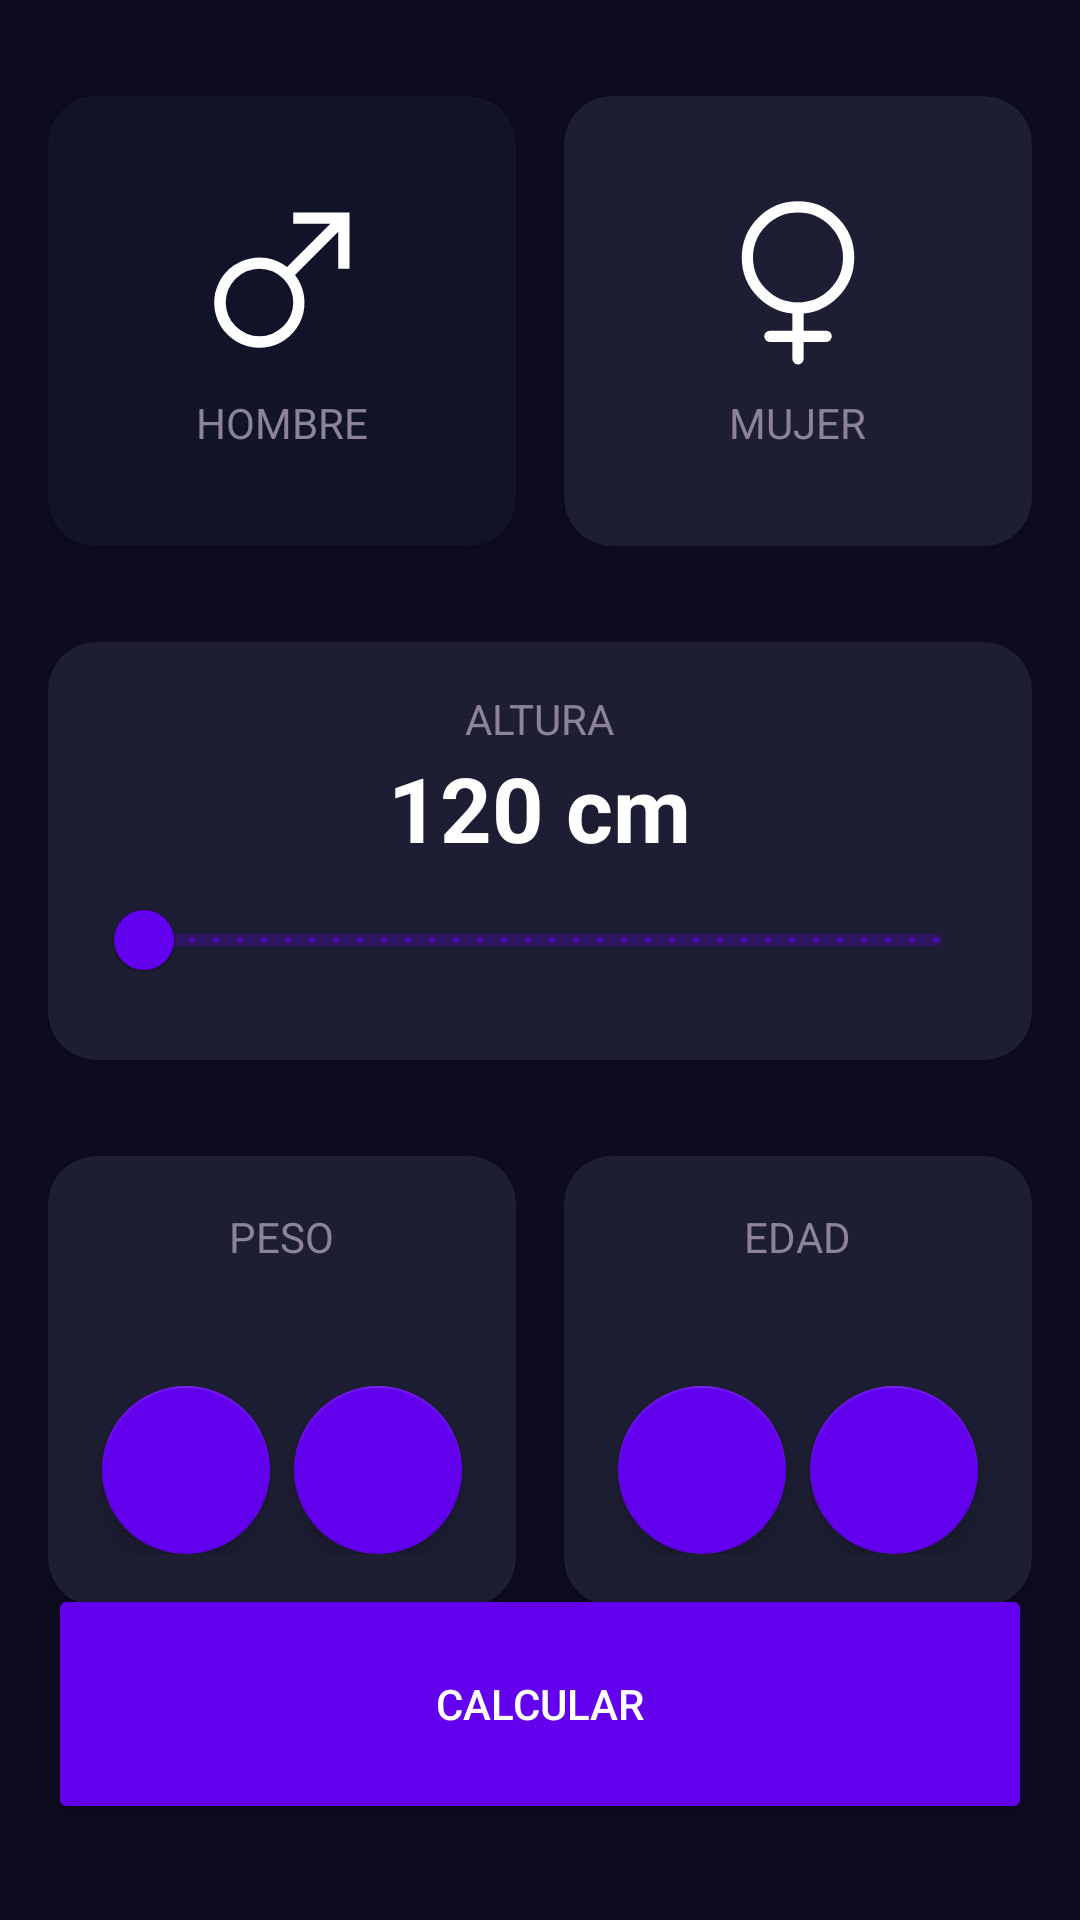

Named icons in this screenshot (1080px×1920px) and their bounding boxes, (x1, y1, x2, y2):
gender male: (214, 212, 350, 348)
